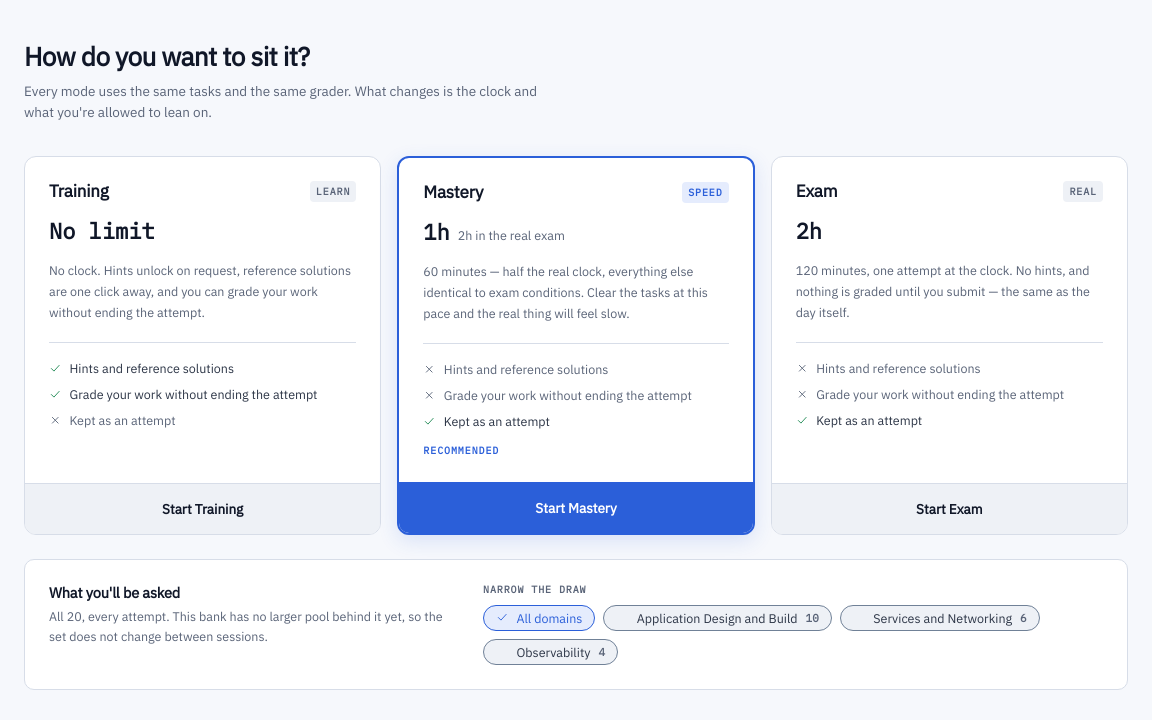
Test: narrowing the draw › the summary counts the narrowed draw, not the whole bank
Expected: the text "All 20, every attempt" is shown, [49,608,443,644]
Click the button "Services and Networking 6" at (940, 618), box [840,604,1040,630]
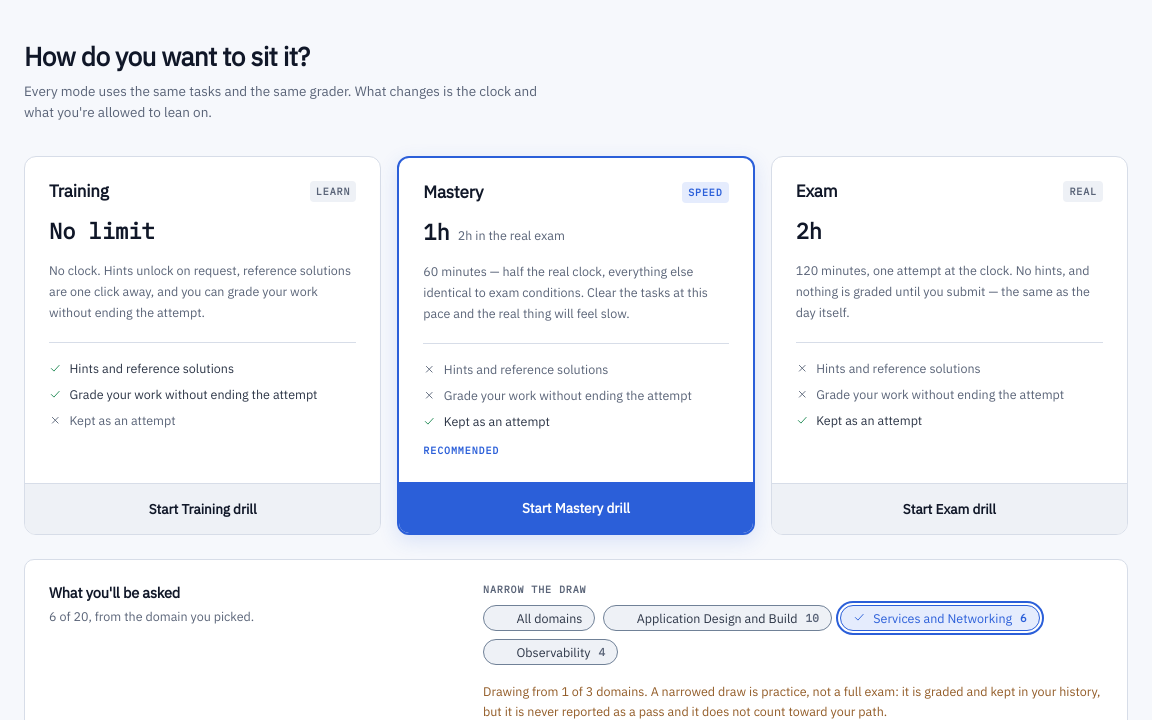
Now the text "6 of 20, from the domain you picked." is shown, box [49,608,254,624]
Click the button "Observability 4" at (551, 652), box [483,638,618,664]
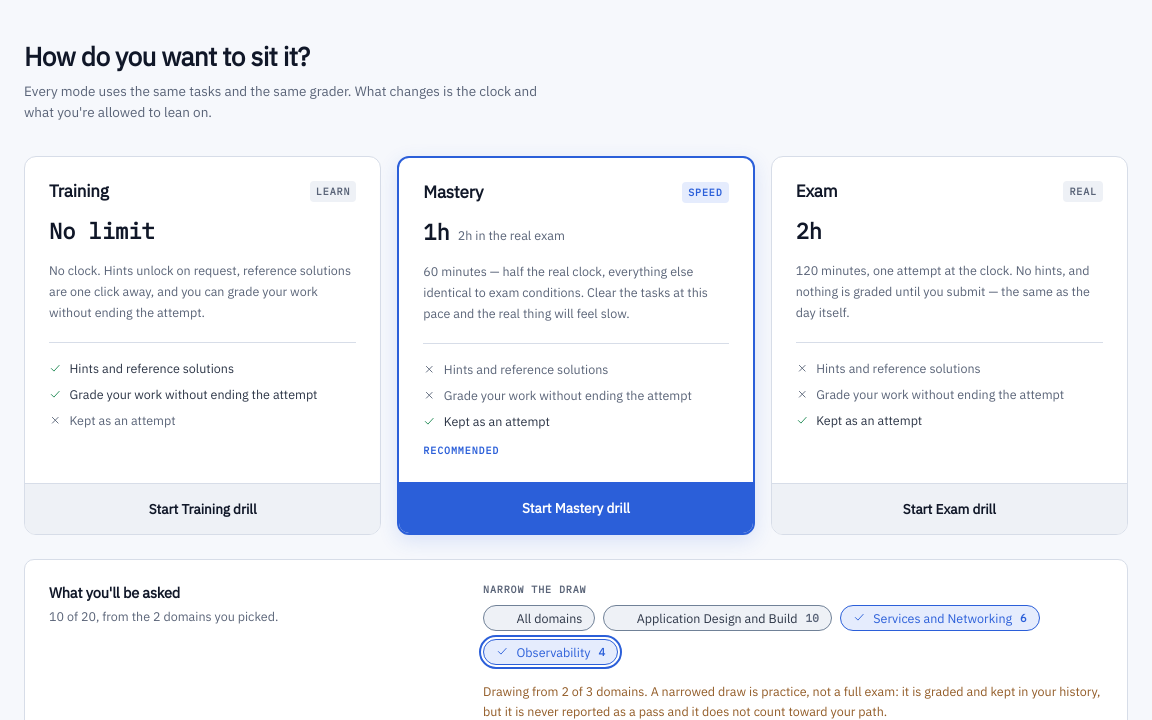
Now the text "10 of 20, from the 2 domains you picked." is shown, box [49,608,278,624]
